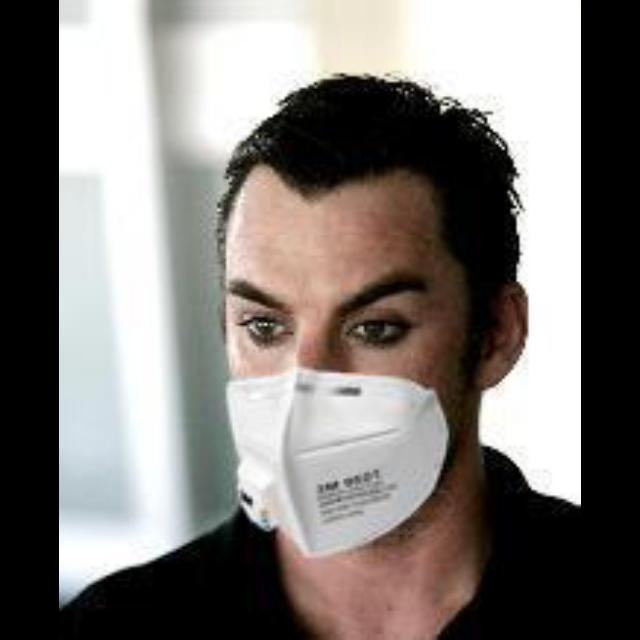suspicion: (207, 73, 515, 539)
